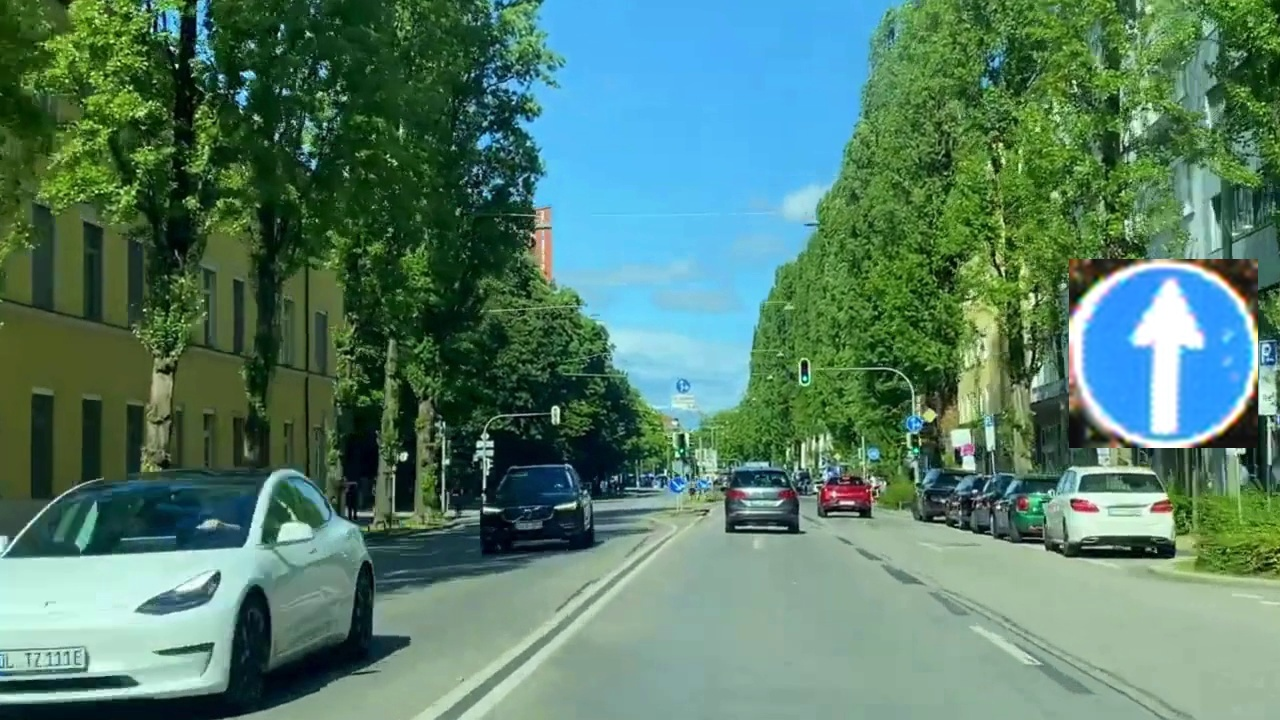Ahead only: (1069, 259, 1258, 448)
